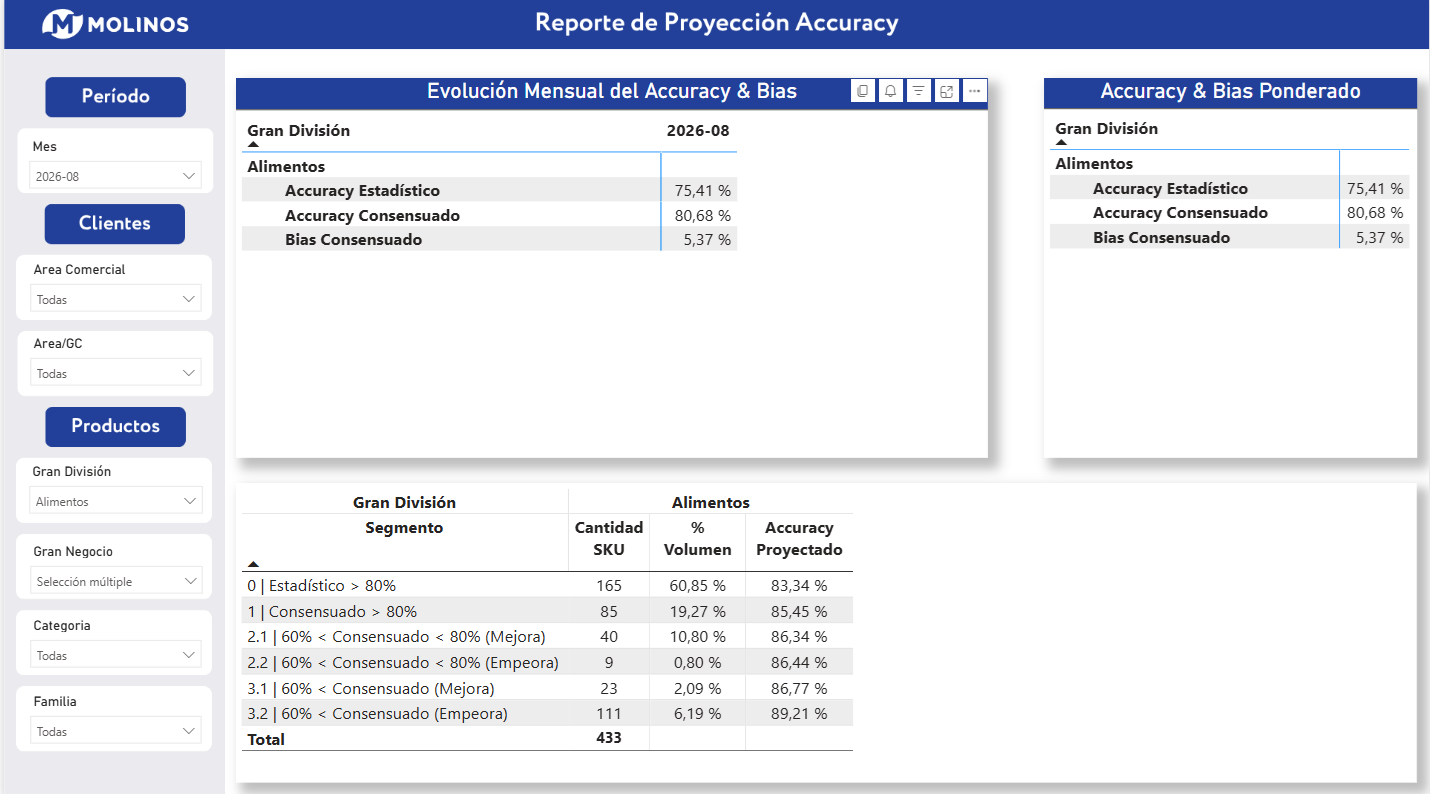

The dashboard page shown, as its layout file describes it:
{"tool":"powerbi","page":{"name":"Reporte Accuracy","canvas":[1280,720],"ordinal":0},"visuals":[{"type":"slicer","fields":{"Values":["ZPRODUCT.Gran División"]},"box":[11.8,413.6,175.5,53.6],"z":0},{"type":"pivotTable","title":"Accuracy & Bias Ponderado","fields":{"Rows":["ZPRODUCT.Gran División"],"Values":["Medidas.Acc. FCST Estadístico (Ponderado por Mes)","Medidas.Acc. FCST Consensuado (Ponderado por Mes)","Medidas.Bias FCST Consensuado (Ponderado por Mes)"]},"box":[933.7,72.7,334.9,341.1],"z":1000},{"type":"slicer","fields":{"Values":["ZPRODUCT.Gran Negocio"]},"box":[13.6,485.5,175.5,53.6],"z":2000},{"type":"slicer","fields":{"Values":["ZCUSTOMER.Area Comercial"]},"box":[13.3,232.3,173.7,54.2],"z":3000},{"type":"slicer","fields":{"Values":["ZCUSTOMER.Area/GC"]},"box":[13.6,299.1,173.6,54.5],"z":4000},{"type":"slicer","fields":{"Values":["Calendario.AñoMes"]},"box":[12.2,121.7,174.8,54.2],"z":5000},{"type":"pivotTable","fields":{"Columns":["ZPRODUCT.Gran División"],"Values":["Medidas.Cantidad SKU Segmento","Medidas.% Volumen","Medidas.Acc. Consensuado Proyectado (Ponderado)"],"Rows":["DimSegmento.Segmento_Mostrar"]},"box":[208.3,436.3,1060.2,269.3],"z":6000},{"type":"pivotTable","title":"Evolución Mensual del Accuracy & Bias","fields":{"Values":["Medidas.Acc. FCST Estadístico (Ponderado por Mes)","Medidas.Acc. FCST Consensuado (Ponderado por Mes)","Medidas.Bias FCST Consensuado (Mensual)"],"Columns":["Calendario.AñoMes"],"Rows":["ZPRODUCT.Gran División"]},"box":[208.3,72.7,675.1,341.1],"z":7000},{"type":"slicer","fields":{"Values":["AWS - Categoria.grupo_material_3"]},"box":[13.6,551.8,173.6,54.5],"z":8000},{"type":"slicer","fields":{"Values":["IBP - Product.Familia"]},"box":[13.6,620,173.6,54.5],"z":9000}]}

Visuals, with their boxes in screenshot pixels (x1, y1, x2, y2), scaled from the page's 1280x720 canvas onto the 1430x794 screenshot:
slicer - ZPRODUCT.Gran División: select_region(13, 456, 209, 515)
"Accuracy & Bias Ponderado" pivotTable: select_region(1043, 80, 1417, 456)
slicer - ZPRODUCT.Gran Negocio: select_region(15, 535, 211, 595)
slicer - ZCUSTOMER.Area Comercial: select_region(15, 256, 209, 316)
slicer - ZCUSTOMER.Area/GC: select_region(15, 330, 209, 390)
slicer - Calendario.AñoMes: select_region(14, 134, 209, 194)
pivotTable - ZPRODUCT.Gran División x Medidas.Cantidad SKU Segmento: select_region(233, 481, 1417, 778)
"Evolución Mensual del Accuracy & Bias" pivotTable: select_region(233, 80, 987, 456)
slicer - AWS - Categoria.grupo_material_3: select_region(15, 609, 209, 669)
slicer - IBP - Product.Familia: select_region(15, 684, 209, 744)
